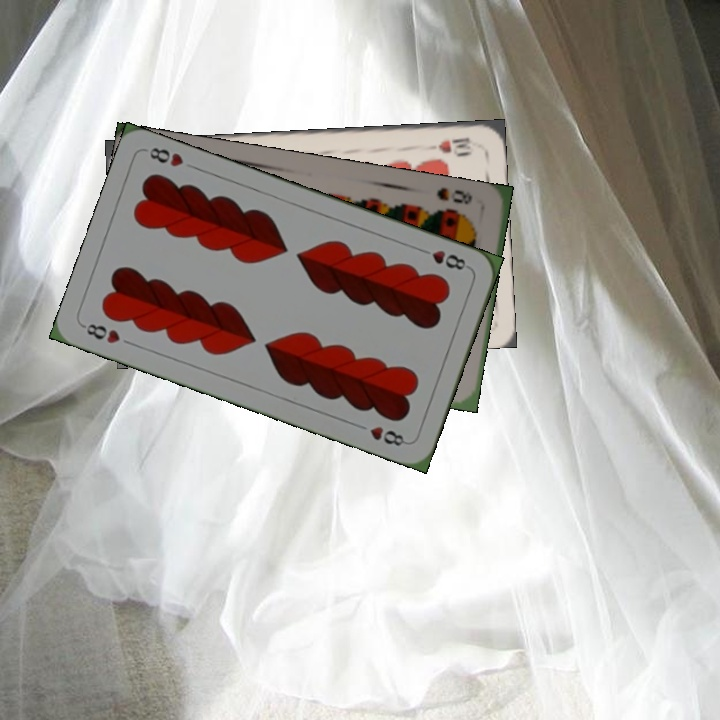H10: (434, 133, 474, 156)
H8: (415, 244, 472, 273), (79, 319, 123, 347)
S8: (432, 183, 475, 207)
